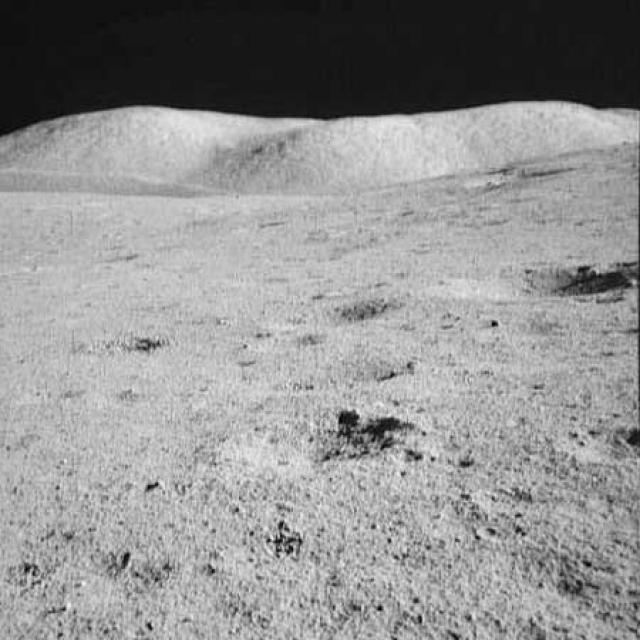crater: (236, 351, 424, 390), (475, 259, 638, 301), (309, 298, 407, 329), (580, 419, 639, 468), (99, 329, 168, 354)
